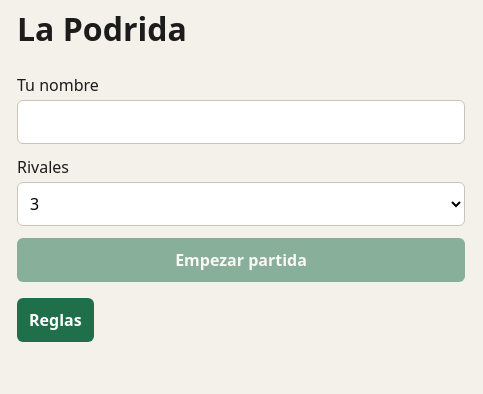
Scenario: NewGamePage failures (VC-902) › create rejects: first message, no slot
Type "Ana" into the field labelled "Tu nombre".
click(241, 122); type("Ana")  # box [17, 100, 465, 144]
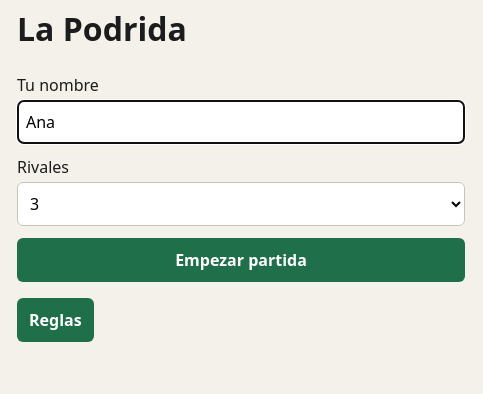
Click the button "Empezar partida".
click(241, 260)  # box [17, 238, 465, 282]
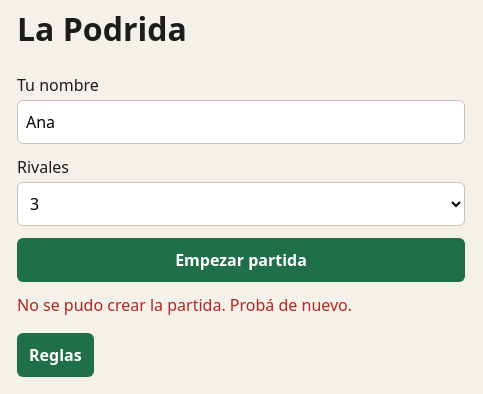
Check: the text "No se pudo crear la partida. Probá de nuevo." is shown, box [17, 294, 352, 316]
